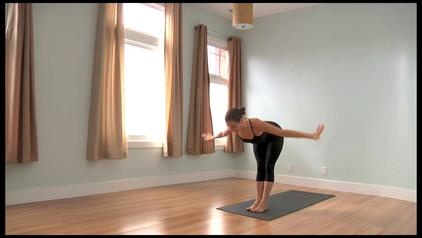walk: (235, 110, 285, 200)
